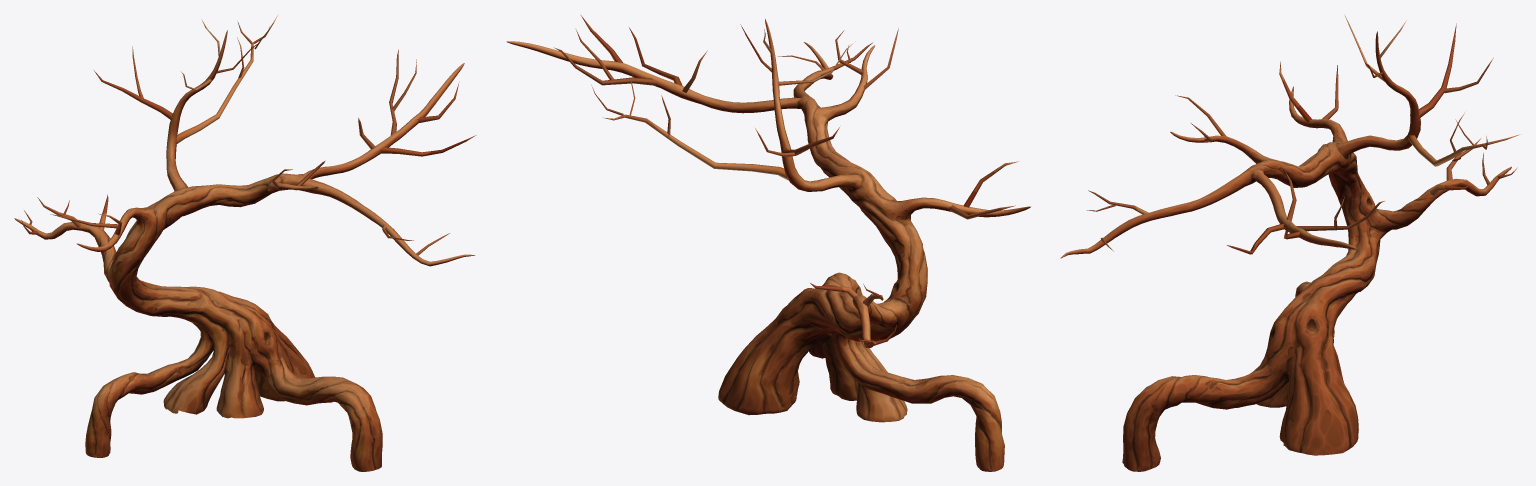
The model's file is SM_Tree_01.glb.
3 renders of one model, left to right at view 1: azimuth 30°, elevation 25°; view 2: azimuth 150°, elevation 25°; view 3: azimuth 270°, elevation 25°, orthographic. The views are drawn at different scales.
Parts seen in each view (by area): view 1: SM_Tree_01_LOD0; view 2: SM_Tree_01_LOD0; view 3: SM_Tree_01_LOD0.
Boxes of the visible parts, x1,y1,x2,y2 form: SM_Tree_01_LOD0: (14,15,476,471); SM_Tree_01_LOD0: (506,15,1030,471); SM_Tree_01_LOD0: (1060,16,1519,471).
Bounding box in the file's own units: 3.06 × 2.57 × 2.56.
Materials: 1 (1 with a texture image).
